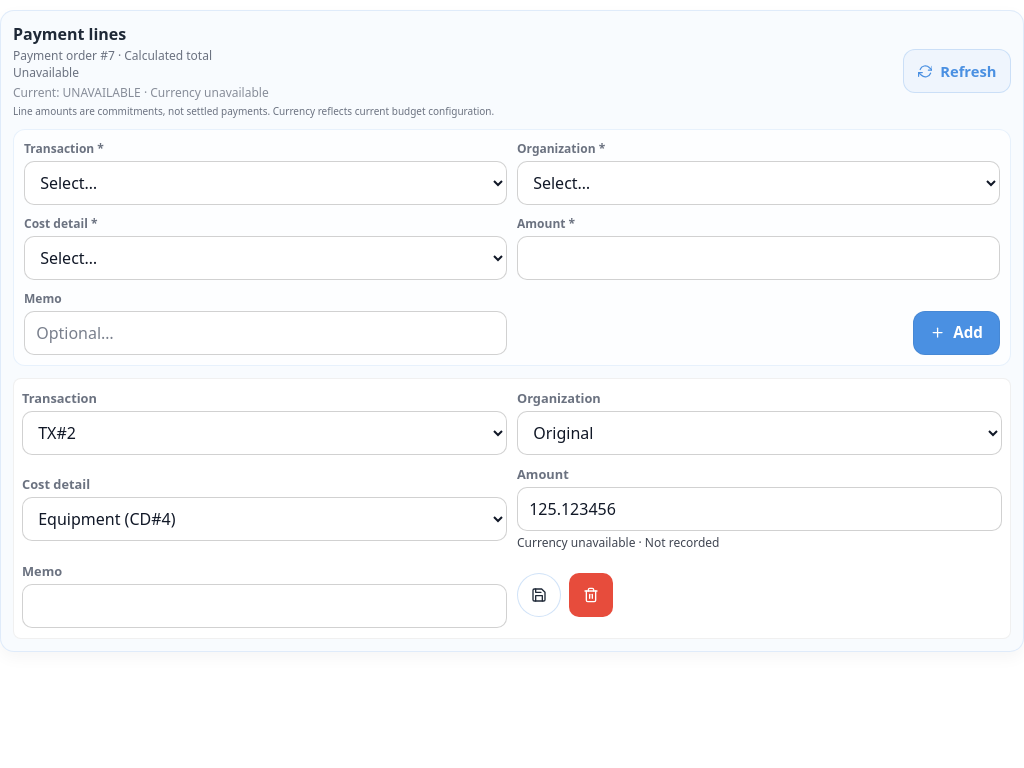
Test: PUT shows all recipient conflicts and refresh preserves a rejected edit
Step 1. Select "Proposed" in the dropdown named "Organization for line 81" → point(760, 433), box [517, 411, 1002, 455]
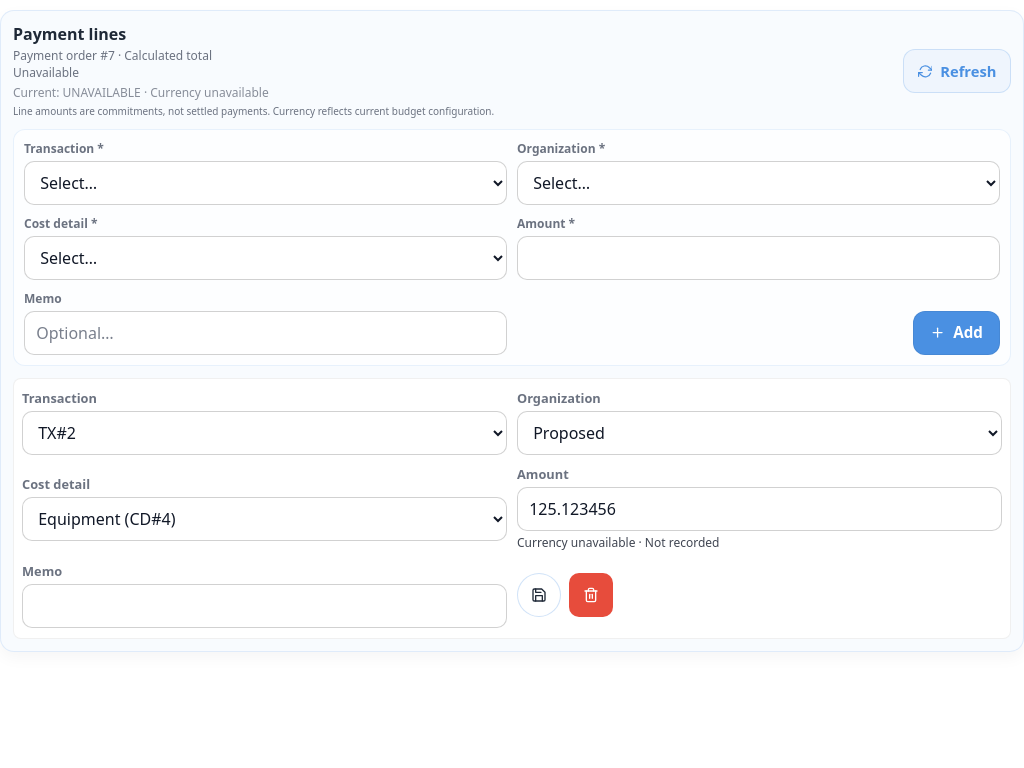
Step 2. Click the button titled "Save line" → point(539, 595), box [517, 573, 561, 617]
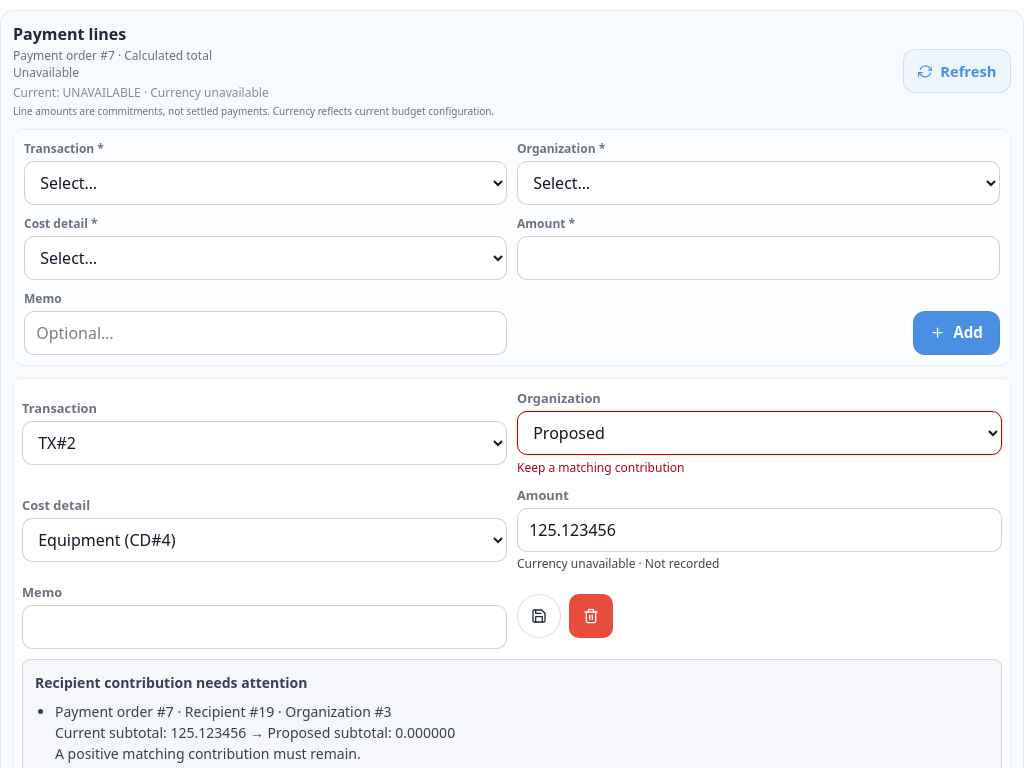
Now the list item "Recipient #19" is shown, box [55, 702, 455, 763]
Now the text "Current subtotal: 125.123456 → Proposed subtotal: 0.000000" is shown, box [55, 723, 455, 742]
Step 3. Click the button titled "Refresh lines" → point(957, 71), box [903, 49, 1011, 93]
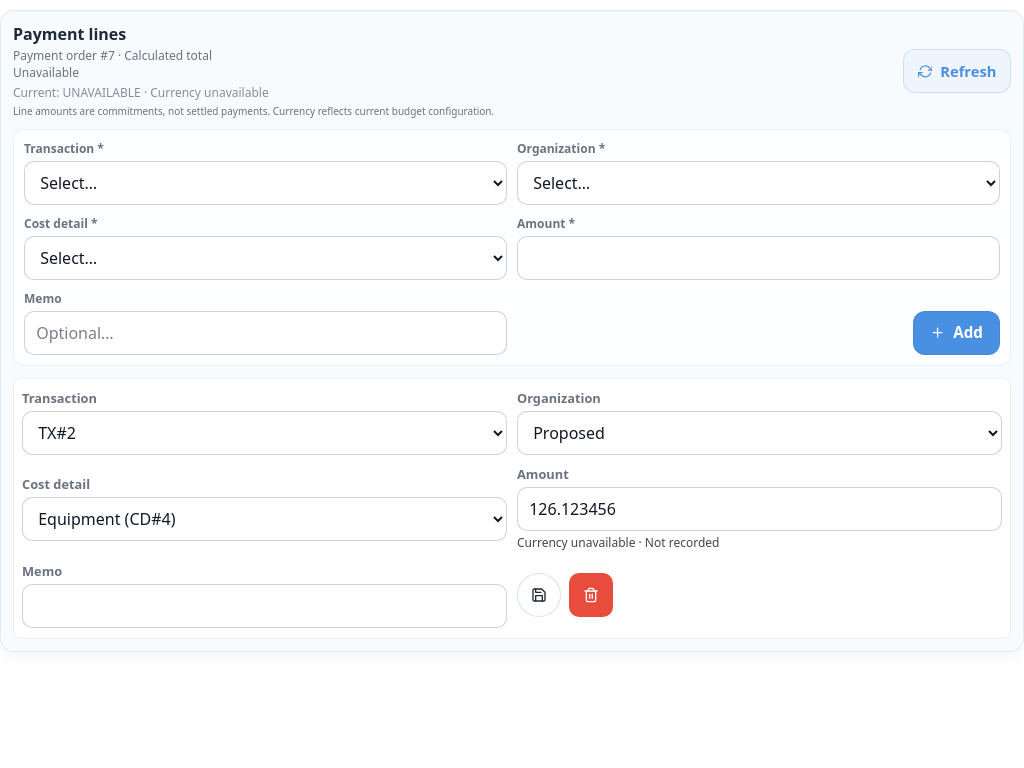
Now the number field named "Amount for line 81" holds "126.123456", box [517, 487, 1002, 531]
Step 4. Click the button titled "Refresh lines" → point(957, 71), box [903, 49, 1011, 93]
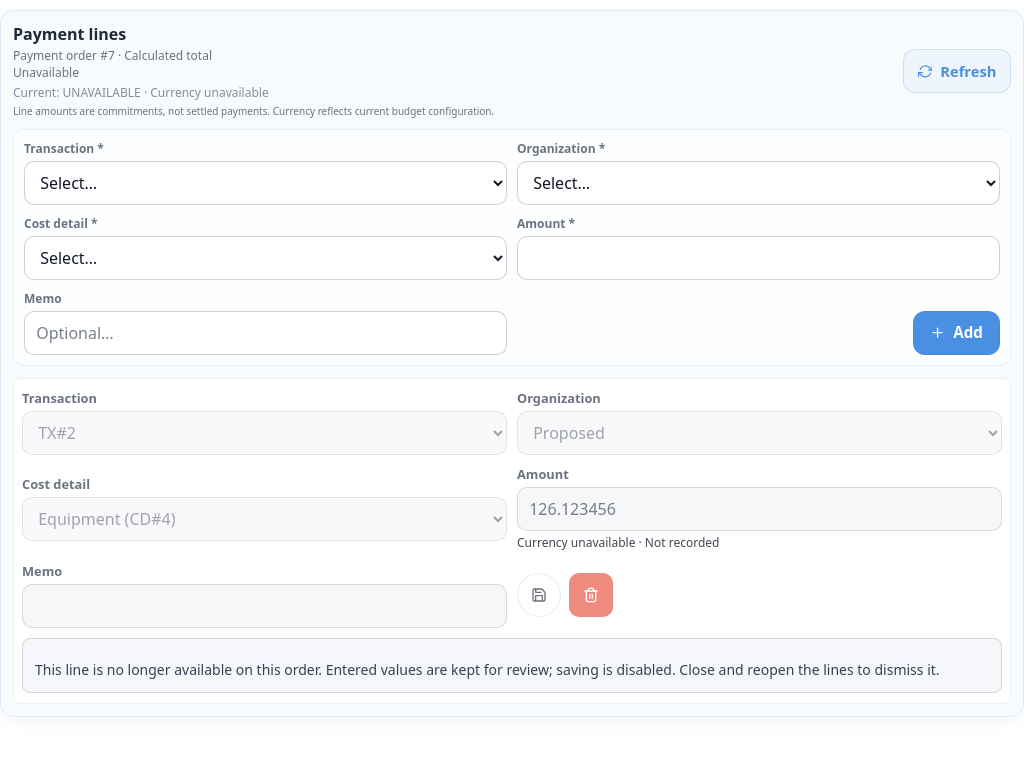
Now the text "This line is no longer available" is shown, box [35, 660, 940, 679]
Now the dropdown named "Organization for line 81" is disabled, box [517, 411, 1002, 455]
